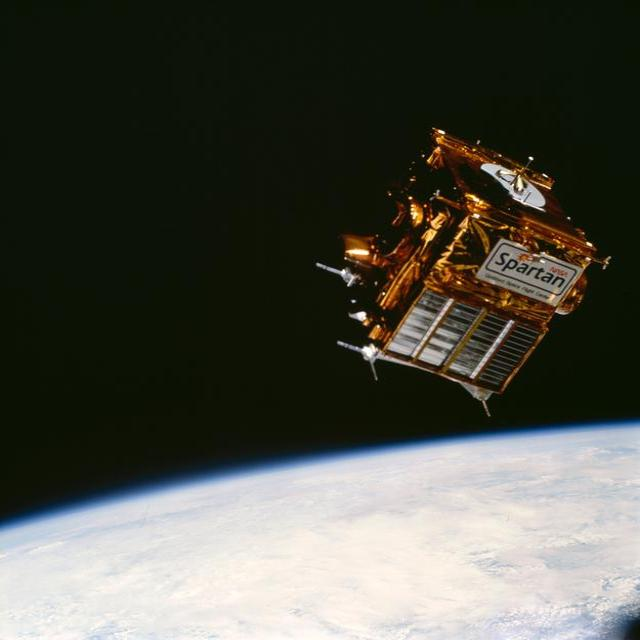medium_debris: (316, 129, 605, 416)
